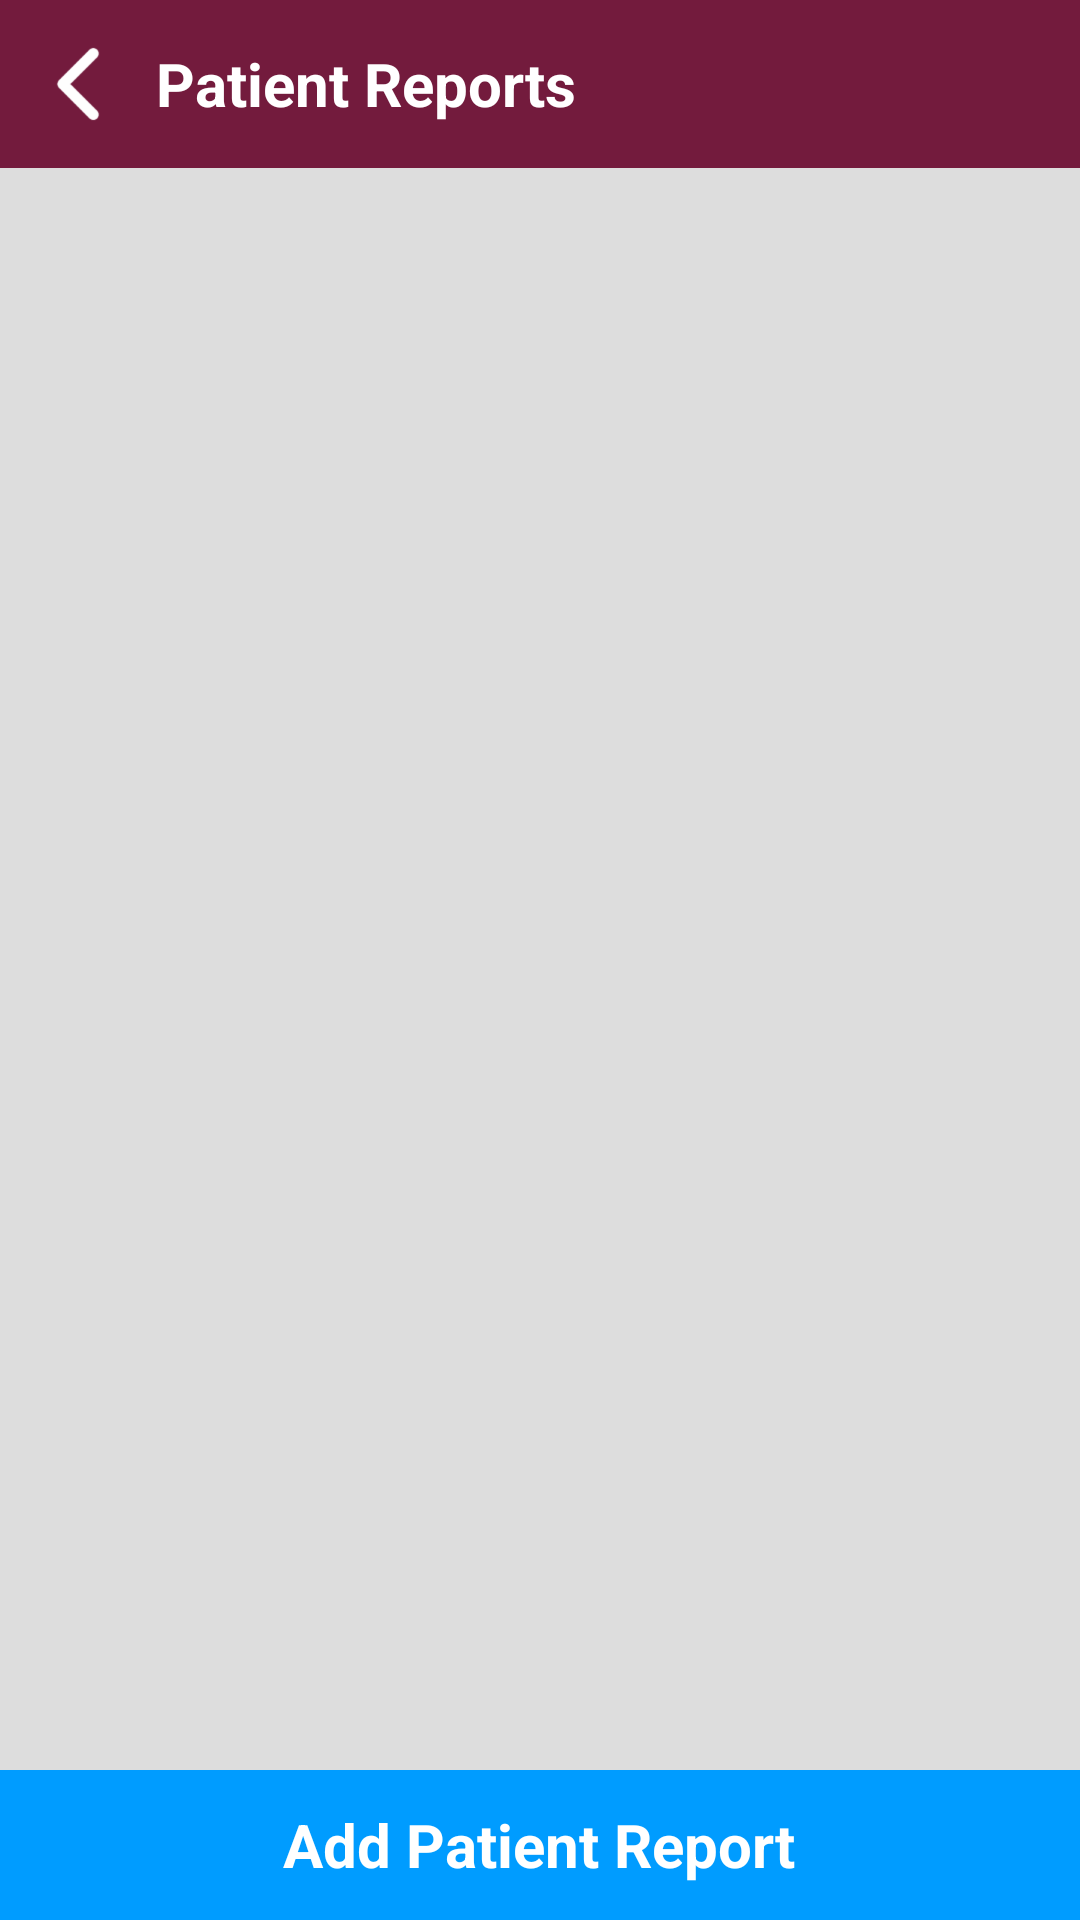

Icons on this 1080*1920 Android screen, each with its box as (x1,y1,x2,y2):
back: (57,48,99,120)
